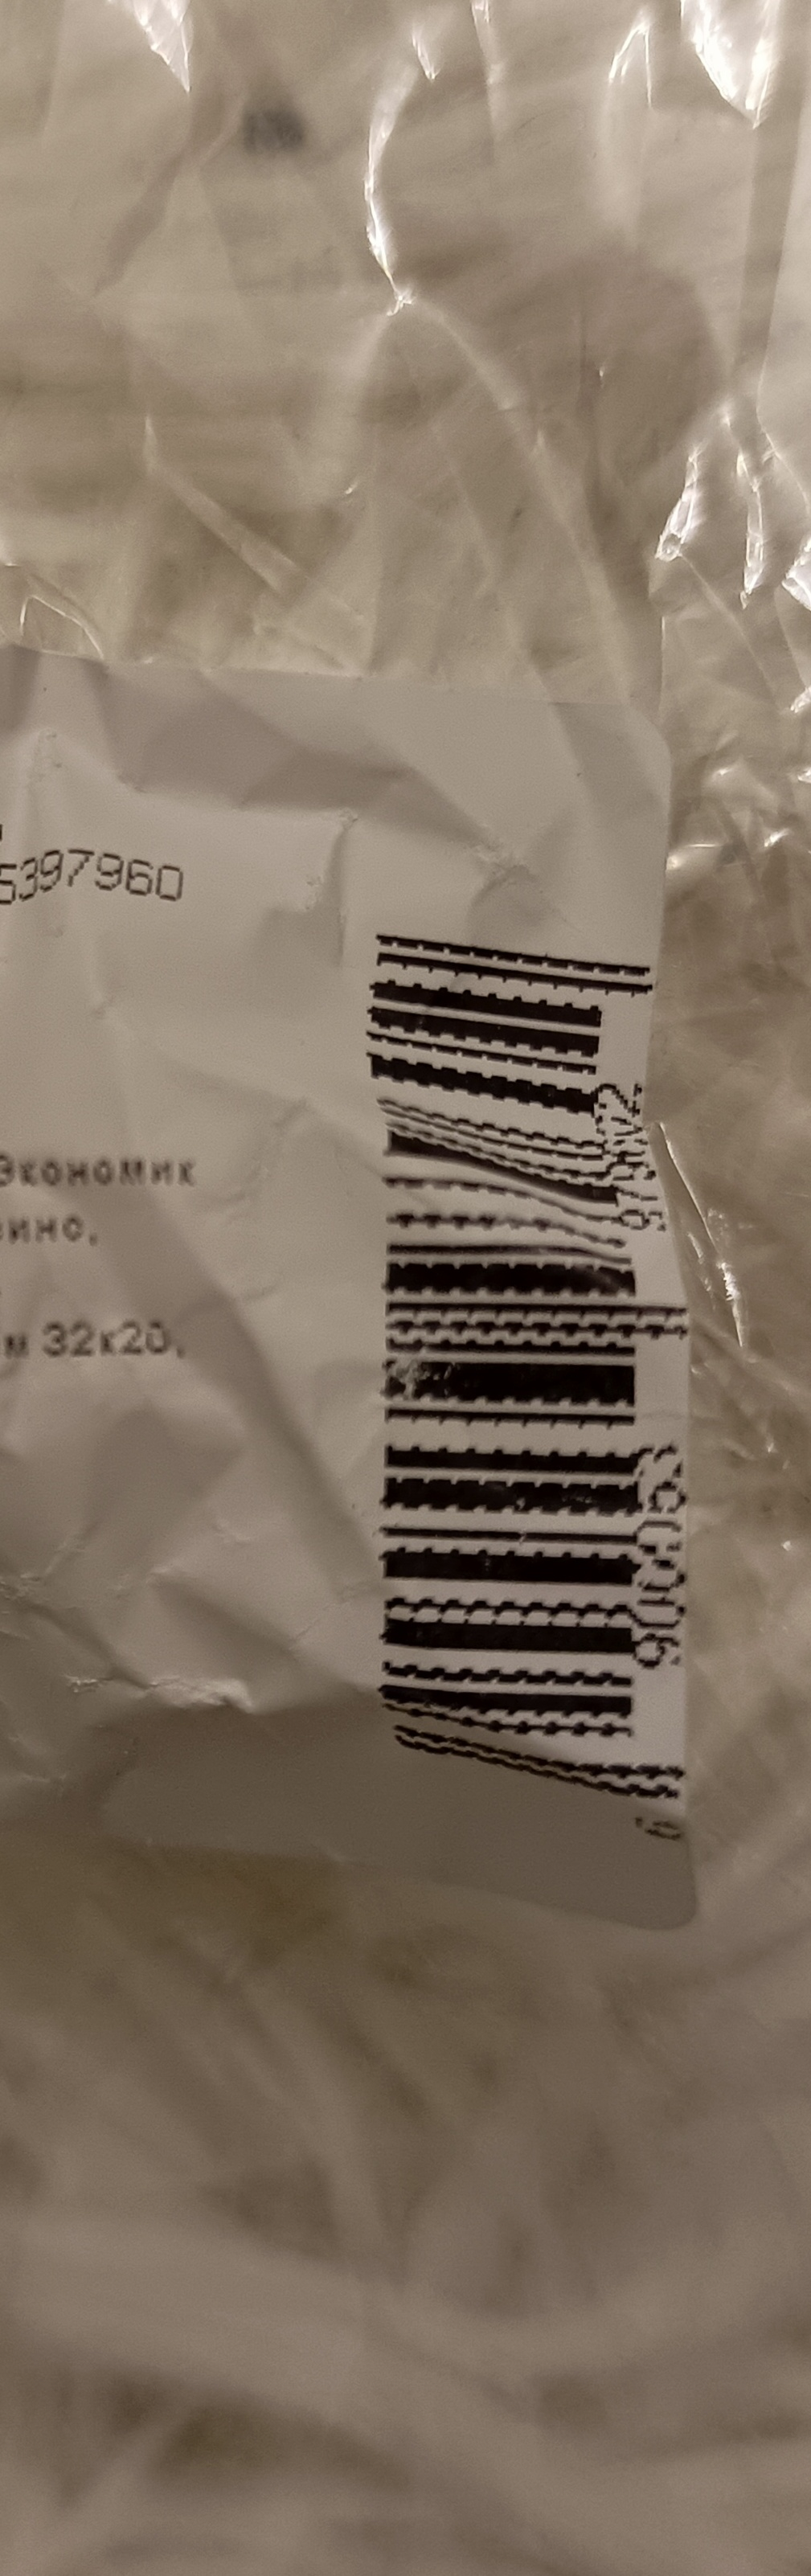1d: (364, 935, 635, 1802)
